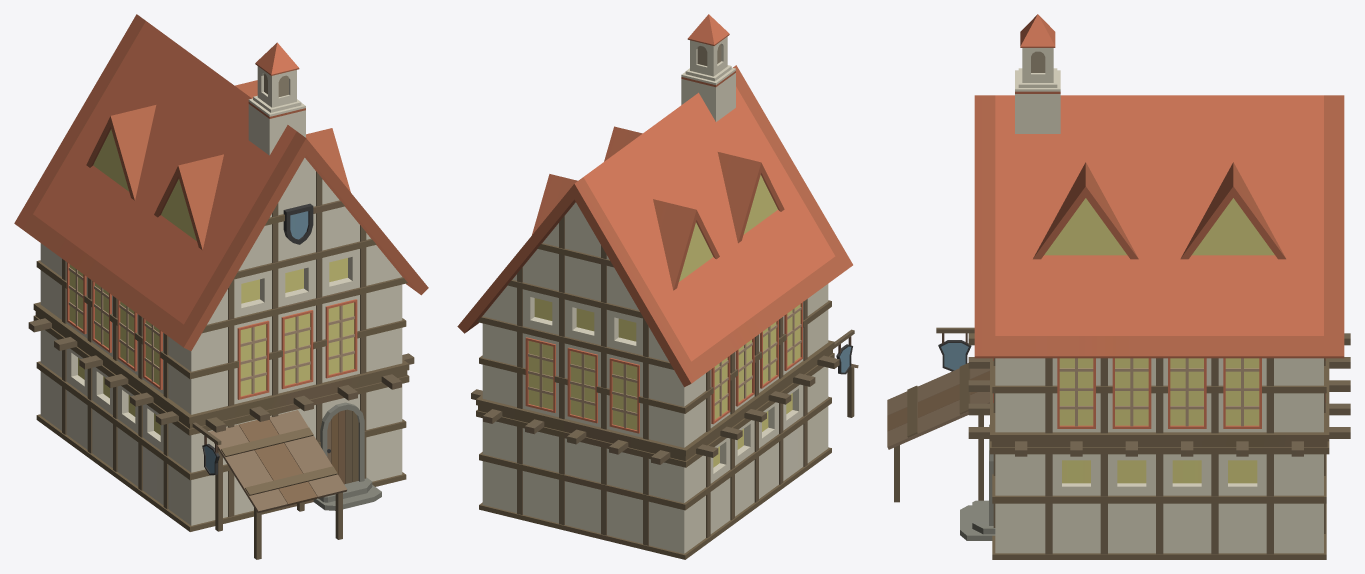
File: House_16.fbx
3 renders of one model, left to right at view 1: azimuth 30°, elevation 25°; view 2: azimuth 150°, elevation 25°; view 3: azimuth 270°, elevation 25°, orthographic. The views are drawn at different scales.
Visible parts, largest first — view 1: House_16; view 2: House_16; view 3: House_16.
Boxes of the visible parts, x1=… form: House_16: x1=14, y1=14, x2=428, y2=559; House_16: x1=457, y1=14, x2=858, y2=559; House_16: x1=887, y1=14, x2=1350, y2=559.
Size of the model in its own units: 121 by 205 by 176.
1 material, 1 textured.
